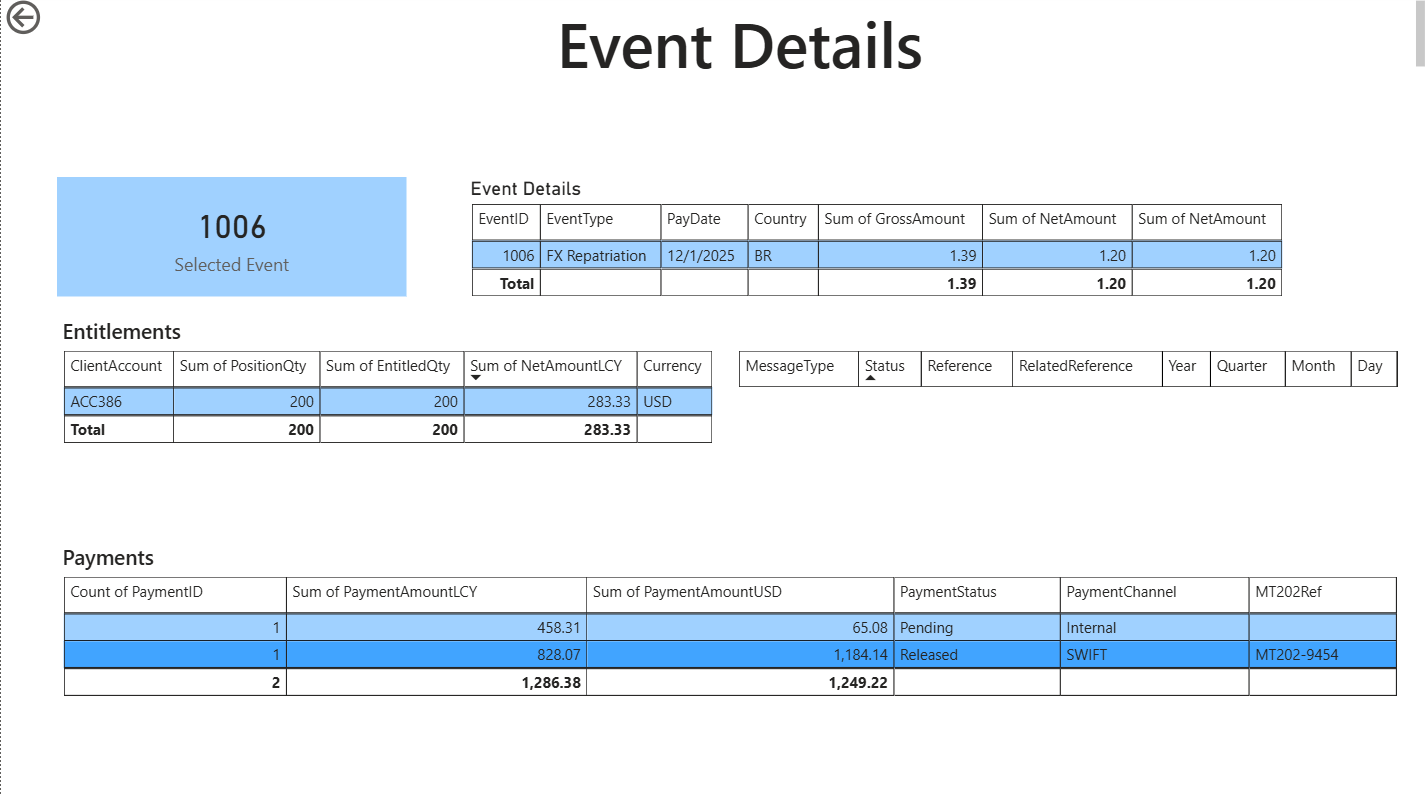

The page's visual inventory and layout, read from the dashboard file:
{"tool":"powerbi","page":{"name":"Event Drillthrough","canvas":[1280,720],"ordinal":3},"visuals":[{"type":"actionButton","box":[0,0,100,40],"z":0},{"type":"tableEx","title":"Entitlements","fields":{"Values":["Entitlements.ClientAccount","Sum(Entitlements.PositionQty)","Sum(Entitlements.EntitledQty)","Sum(Entitlements.NetAmountLCY)","Entitlements.Currency"]},"box":[50.1,288.6,604.1,171.2],"z":1000},{"type":"tableEx","title":"Payments","fields":{"Values":["CountNonNull(Payments.PaymentID)","Sum(Payments.PaymentAmountLCY)","Sum(Payments.PaymentAmountUSD)","Payments.PaymentStatus","Payments.PaymentChannel","Payments.MT202Ref"]},"box":[50.1,490.4,1216.7,229.9],"z":2000},{"type":"tableEx","title":"SWIFT Messages","fields":{"Values":["Swift_Messages.MessageType","Swift_Messages.Status","Swift_Messages.Reference","Swift_Messages.RelatedReference","Swift_Messages.CreatedDateTime.Variation.Date Hierarchy.Year","Swift_Messages.CreatedDateTime.Variation.Date Hierarchy.Quarter","Swift_Messages.CreatedDateTime.Variation.Date Hierarchy.Month","Swift_Messages.CreatedDateTime.Variation.Date Hierarchy.Day"]},"box":[654.2,288.6,612.6,171.2],"z":3000},{"type":"textbox","box":[50.1,0,1230.2,75.8],"z":4000},{"type":"card","fields":{"Values":["Events.Selected Event"]},"box":[50.5,163,313.1,106.8],"z":5000},{"type":"tableEx","title":"Event Details","fields":{"Values":["Events.EventID","Events.EventType","Events.PayDate","Events.Country","Sum(Events.GrossAmount)","Sum(Events.NetAmount)","Sum(Events.NetAmount)"]},"box":[415.5,163,748.8,150],"z":6000}]}

Visuals, with their boxes in screenshot pixels (x1, y1, x2, y2), scaled from the page's 1280x720 canvas onto the 1428x794 screenshot:
actionButton: x1=0, y1=0, x2=112, y2=44
"Entitlements" tableEx: x1=56, y1=318, x2=730, y2=507
"Payments" tableEx: x1=56, y1=541, x2=1413, y2=793
"SWIFT Messages" tableEx: x1=730, y1=318, x2=1413, y2=507
textbox: x1=56, y1=0, x2=1427, y2=84
card - Events.Selected Event: x1=56, y1=180, x2=406, y2=298
"Event Details" tableEx: x1=464, y1=180, x2=1299, y2=345
